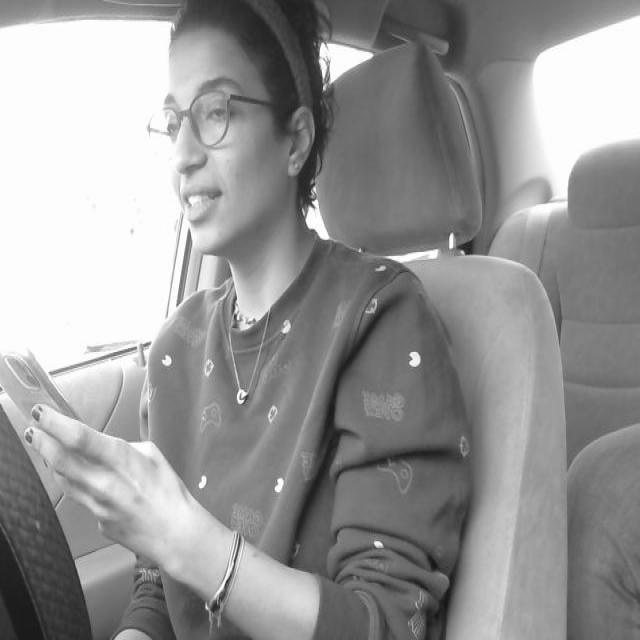mobile use: (0, 355, 152, 535), (0, 360, 132, 536)
